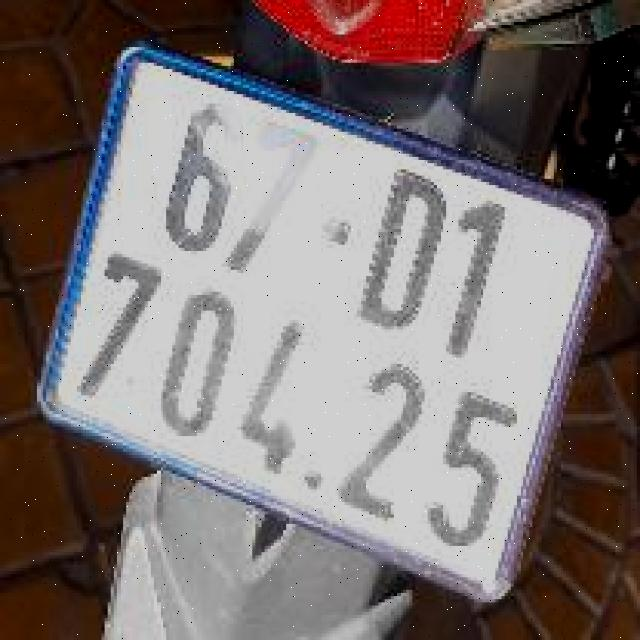0: (142, 275, 259, 445)
1: (426, 183, 527, 373)
2: (324, 347, 455, 531)
4: (228, 304, 351, 485)
5: (408, 378, 534, 567)
6: (158, 92, 252, 273)
7: (210, 107, 341, 284), (58, 244, 178, 410)
D: (342, 155, 464, 341)
